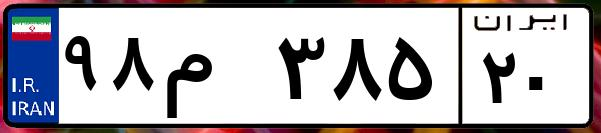0: (525, 38, 570, 115)
2: (475, 38, 525, 113)
3: (270, 28, 330, 110)
5: (385, 28, 445, 110)
8: (330, 28, 385, 110), (110, 28, 158, 98)
9: (57, 26, 110, 100)
م: (158, 20, 270, 120)
